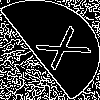X: (25, 25, 92, 78)
